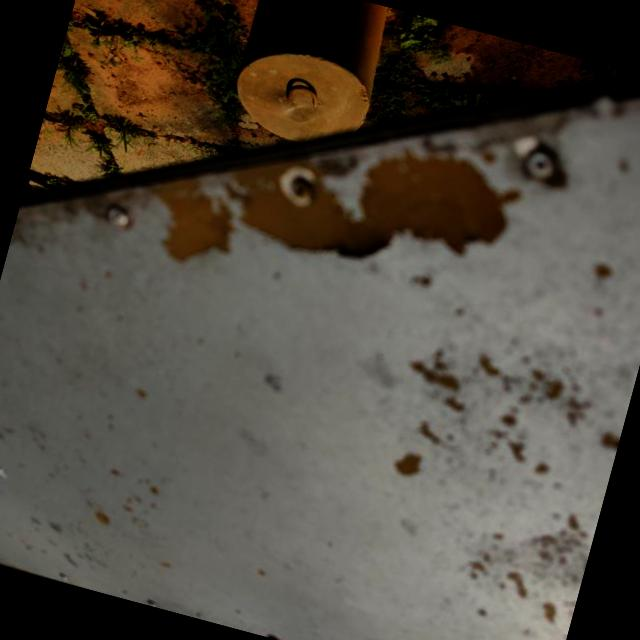paint-off: (123, 57, 545, 363)
